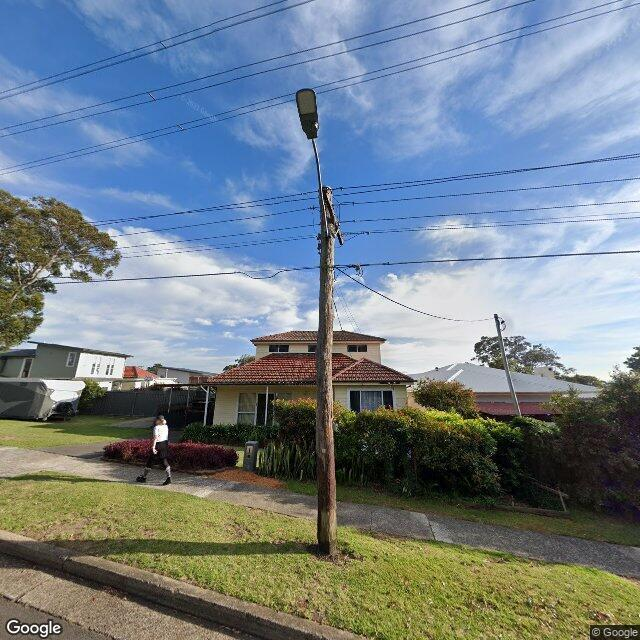crossarm: (320, 189, 345, 245)
steel-pole: (494, 314, 522, 418)
streetlight: (297, 87, 329, 238)
timber-pole: (317, 186, 339, 556)
